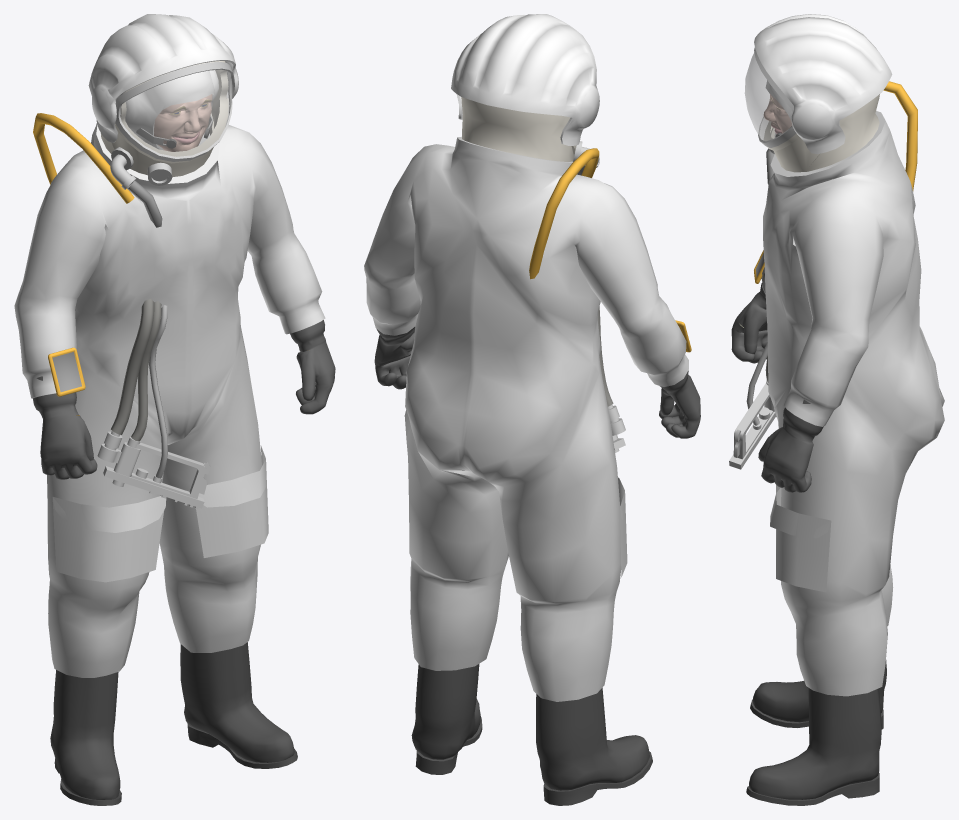
Rendered from cosmonaut.fbx.
3 renders of one model, left to right at view 1: azimuth 30°, elevation 25°; view 2: azimuth 150°, elevation 25°; view 3: azimuth 270°, elevation 25°, orthographic.
Parts seen in each view (by area): view 1: skpVsGBRJ_001; view 2: skpVsGBRJ_001; view 3: skpVsGBRJ_001.
Part boxes in pixels (<box>): skpVsGBRJ_001: <box>14,14,335,805</box>; skpVsGBRJ_001: <box>364,14,700,805</box>; skpVsGBRJ_001: <box>729,14,944,805</box>.
Size of the model in its own units: 83.45 by 194 by 51.23.
